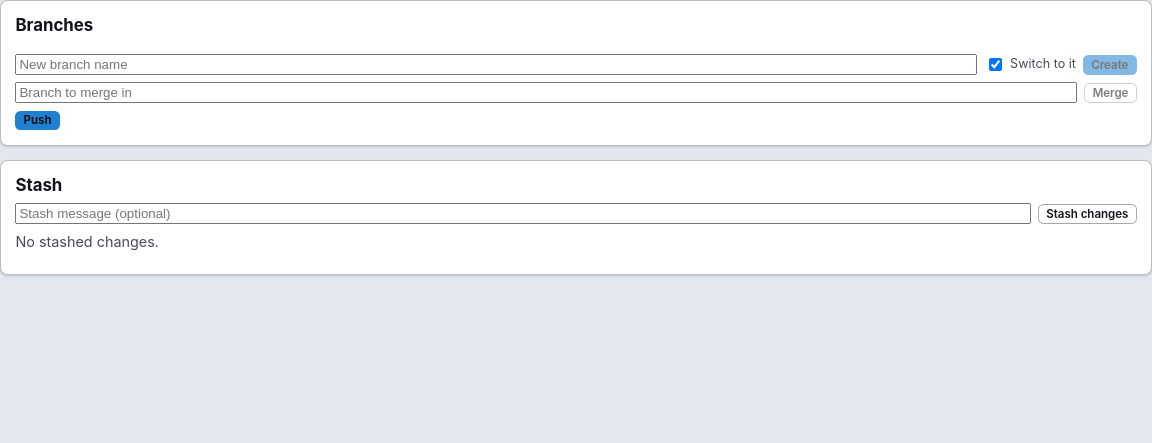
Test: GitBranchPanel: push (SPEC §7.6/§7.14; issue #235) › a rejected_non_fast_forward outcome renders the real message and a Push (force) action, distinct from a generic failure
Click the button with test id "git-branch-push-submit" at coordinates (38, 120), box [15,111,60,130]
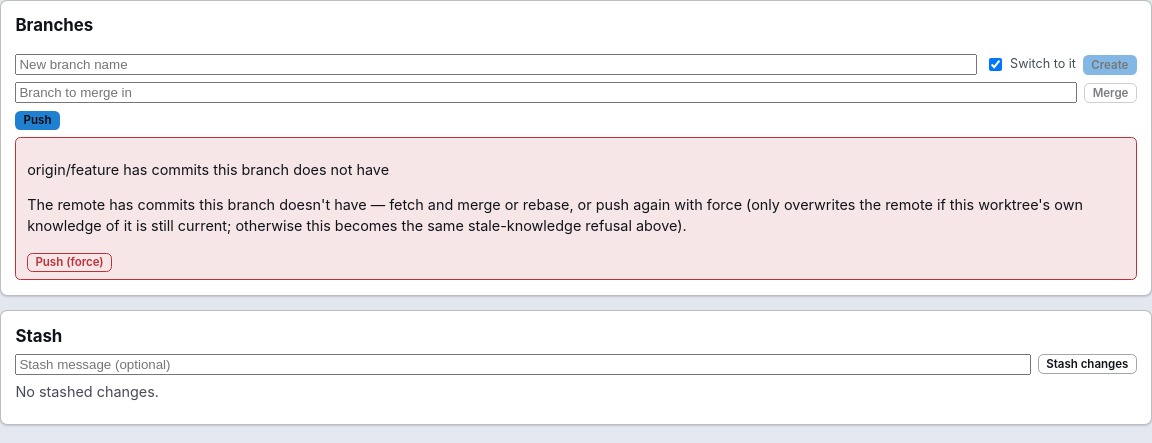
Expected: the text "origin/feature has commits this branch does not have" is shown, [27,161,389,178]
Expected: the button with test id "git-branch-push-force" is shown, [27,253,112,272]
